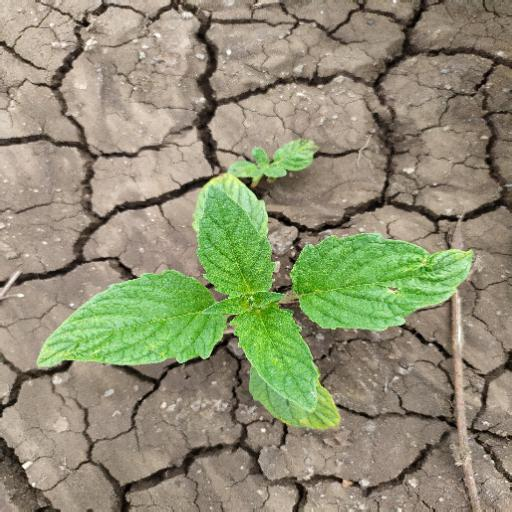crop: (35, 169, 474, 426)
